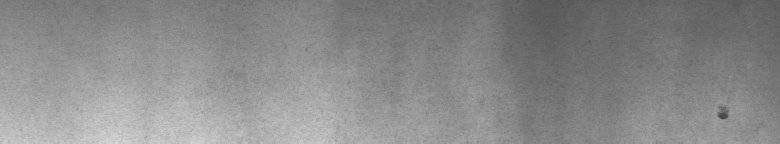fi: (712, 99, 734, 128)
